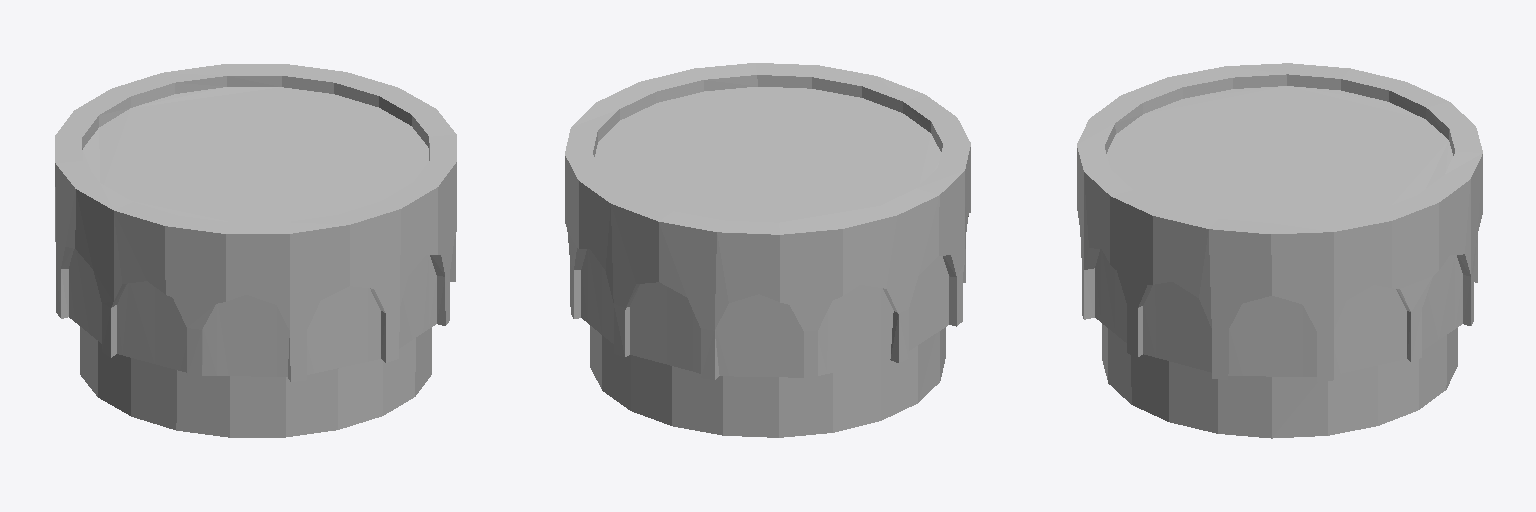
File: table_3.obj
3 renders of one model, left to right at view 1: azimuth 30°, elevation 25°; view 2: azimuth 150°, elevation 25°; view 3: azimuth 270°, elevation 25°, orthographic.
Visible parts, largest first — view 1: Mesa1.002_Cylinder.002; view 2: Mesa1.002_Cylinder.002; view 3: Mesa1.002_Cylinder.002.
Part boxes in pixels (x1,y1,x2,y2): Mesa1.002_Cylinder.002: (55, 64, 456, 437); Mesa1.002_Cylinder.002: (565, 63, 970, 437); Mesa1.002_Cylinder.002: (1077, 63, 1482, 438).
Size of the model in its own units: 1.2 by 0.6999 by 1.2.